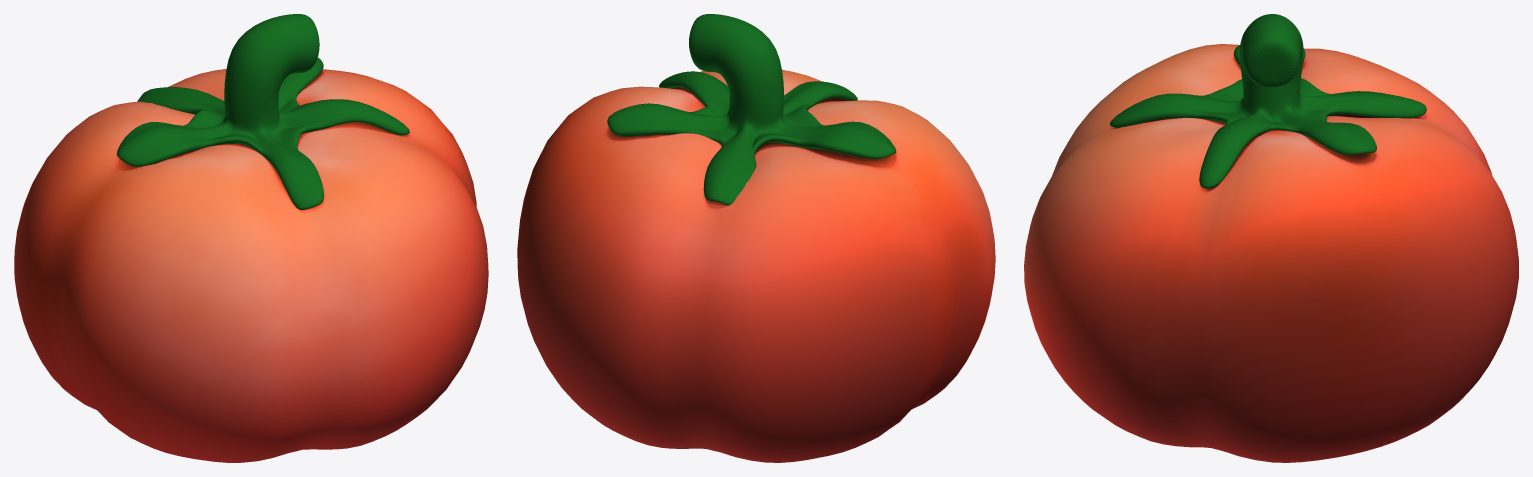
The model's file is Vegetable.glb.
3 views of the same model, side by side, from view 1: azimuth 30°, elevation 25°; view 2: azimuth 150°, elevation 25°; view 3: azimuth 270°, elevation 25° (orthographic). The views are drawn at different scales.
Visible parts, largest first — view 1: Sphere.028, Sphere.029; view 2: Sphere.028, Sphere.029; view 3: Sphere.028, Sphere.029.
Boxes of the visible parts, x1,y1,x2,y2 form: Sphere.028: (14,69,488,462); Sphere.029: (116,14,409,209); Sphere.028: (517,69,995,462); Sphere.029: (607,14,896,205); Sphere.028: (1024,44,1518,462); Sphere.029: (1109,14,1426,188).
Size of the model in its own units: 4.8 by 4.37 by 4.79.
Materials: 2 (1 with a texture image).
